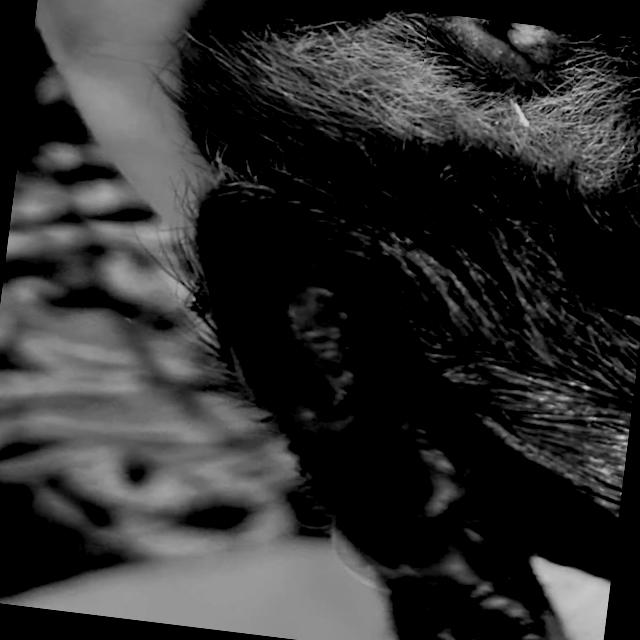fem: (421, 11, 579, 99)
